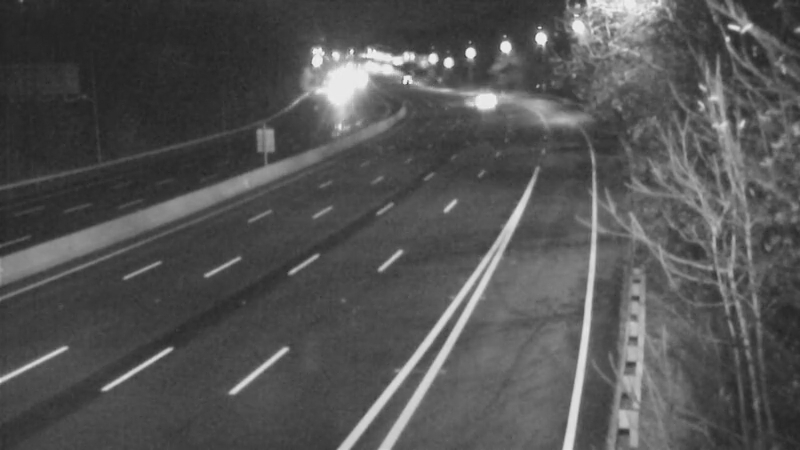vehicle: (380, 56, 430, 106), (452, 75, 502, 125)
